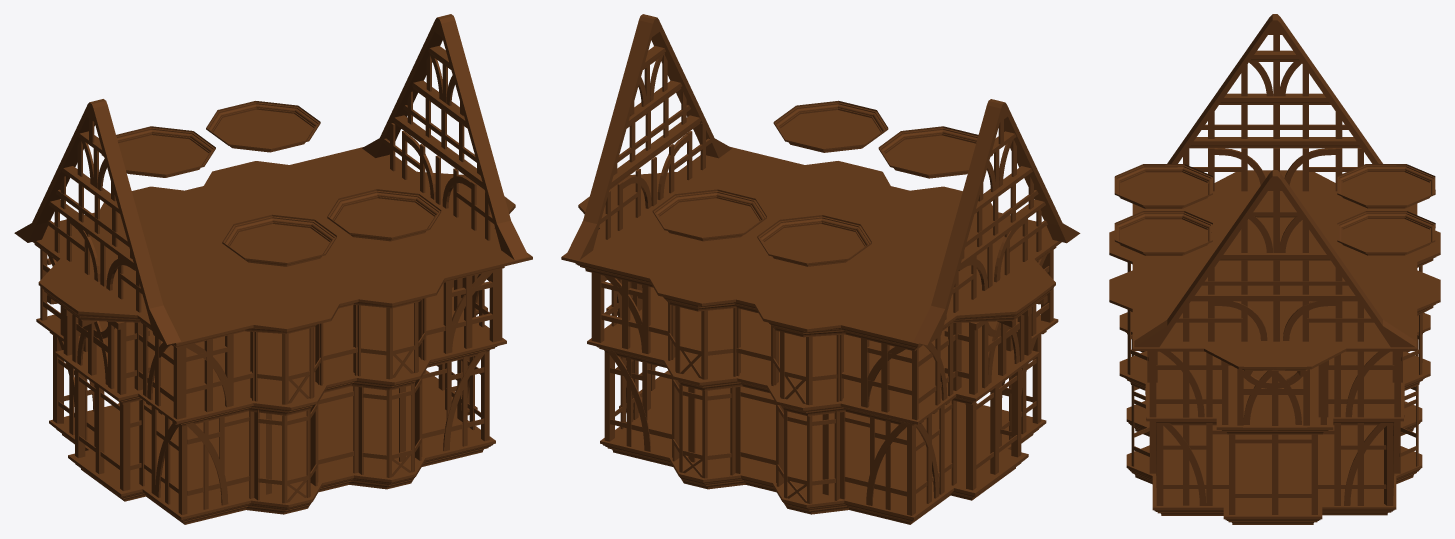
The model's file is FairyTale94.gltf.
3 views of the same model, side by side, from view 1: azimuth 30°, elevation 25°; view 2: azimuth 150°, elevation 25°; view 3: azimuth 270°, elevation 25° (orthographic). The views are drawn at different scales.
Parts seen in each view (by area): view 1: HouseLG06_Wood_Beams; view 2: HouseLG06_Wood_Beams; view 3: HouseLG06_Wood_Beams.
Boxes of the visible parts, <box> form: HouseLG06_Wood_Beams: <box>14,14,532,524</box>; HouseLG06_Wood_Beams: <box>561,14,1080,524</box>; HouseLG06_Wood_Beams: <box>1109,14,1440,524</box>.
Size of the model in its own units: 24.22 by 20.29 by 17.25.
